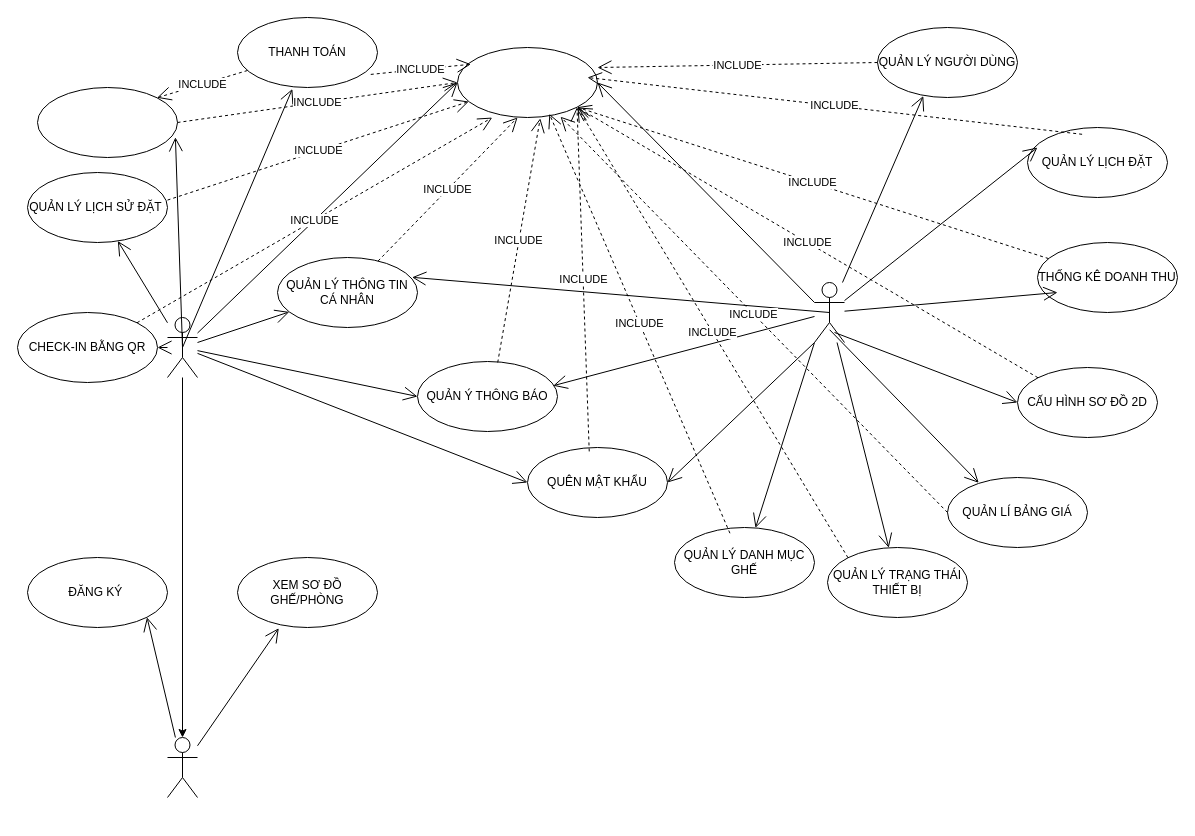
Image size: 1195x836. Some labels were removed from this diagram. Each missing label, with the box of its shape:
ADMIN: (814, 282, 844, 342)
KHÁCH: (166, 736, 198, 798)
THÀNH VIÊN: (166, 316, 198, 378)
ĐĂNG NHẬP: (456, 46, 598, 118)
ĐẶT CHỔ THEO BLOCK GIỜ: (36, 86, 178, 158)
